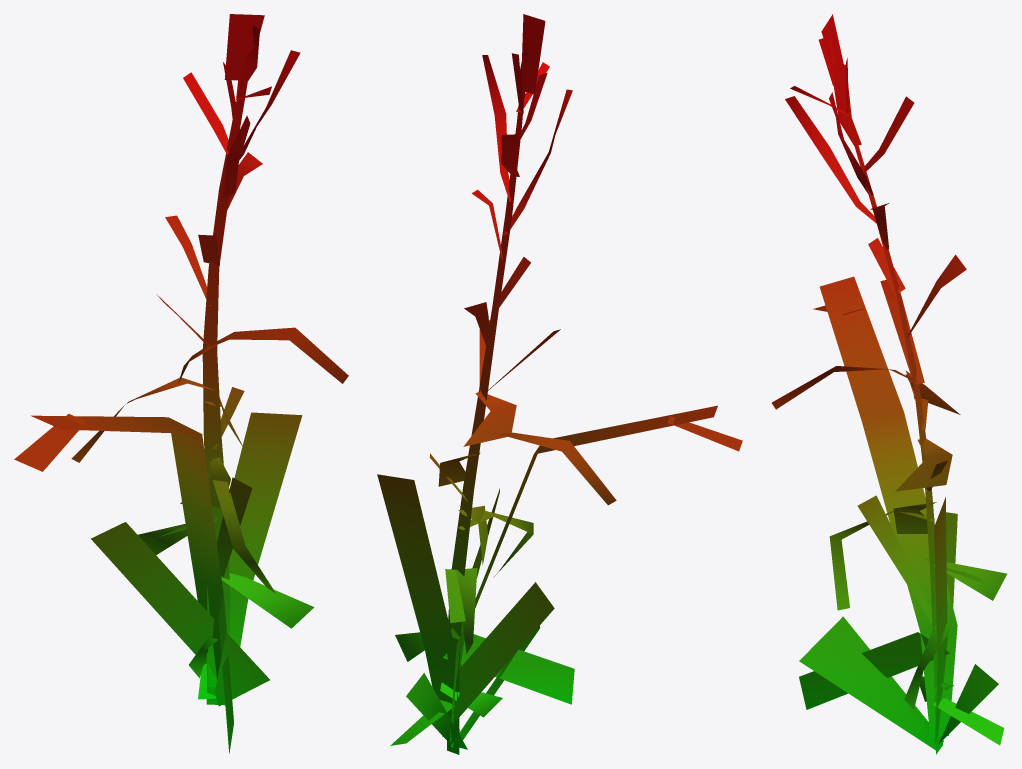
File: Var3_LOD3.fbx
The picture shows the model from 3 angles, left to right: view 1: azimuth 30°, elevation 25°; view 2: azimuth 150°, elevation 25°; view 3: azimuth 270°, elevation 25°; orthographic projection. The views are drawn at different scales.
Visible parts, largest first — view 1: _6f9d_Var3_LOD3; view 2: _6f9d_Var3_LOD3; view 3: _6f9d_Var3_LOD3.
Part boxes in pixels (x1=…): _6f9d_Var3_LOD3: x1=14, y1=14, x2=348, y2=753; _6f9d_Var3_LOD3: x1=377, y1=14, x2=742, y2=754; _6f9d_Var3_LOD3: x1=772, y1=14, x2=1006, y2=754.
Size of the model in its own units: 32.99 by 69.87 by 20.84.
